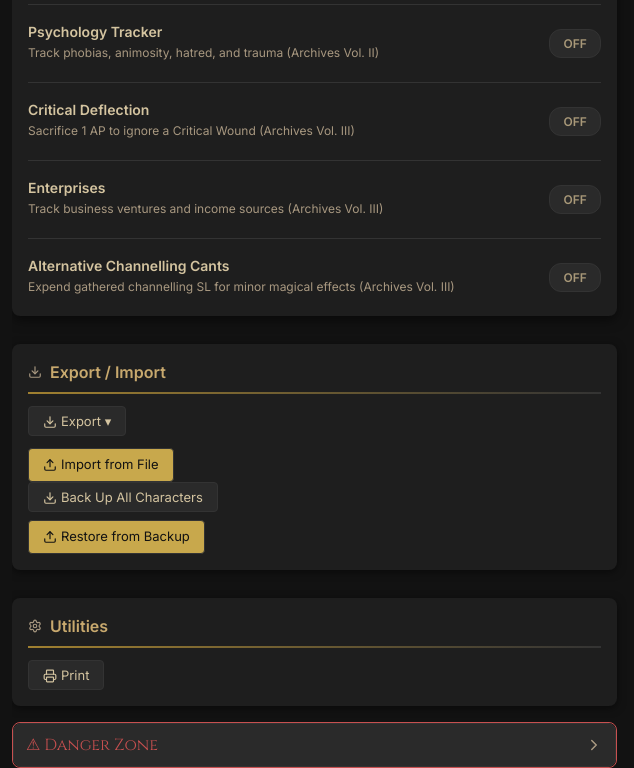
Test: Interaction Consolidation — Export Dropdown (Req 5.3) › Export button click reveals "Copy to Clipboard" and "Download File" options
Expected: the text "Copy to Clipboard" is not shown
Expected: the text "Download File" is not shown
Note: Click the Export dropdown button
What coordinates should you click on to do the following:
click the button "Export ▾"
I would click on:
 (77, 421)
Its box is x1=28 y1=406 x2=126 y2=436.
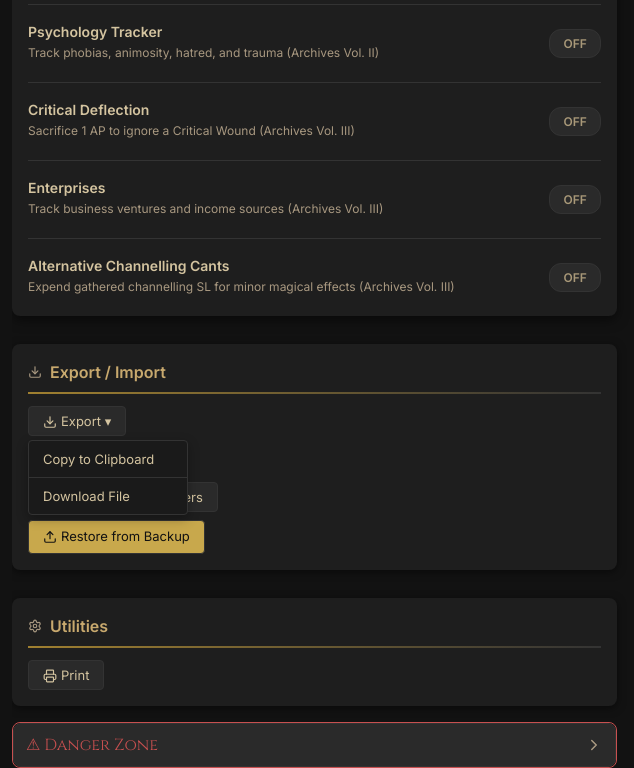
Expected: the button "Copy to Clipboard" is shown, x1=29 y1=442 x2=187 y2=478
Expected: the button "Download File" is shown, x1=29 y1=478 x2=187 y2=514
